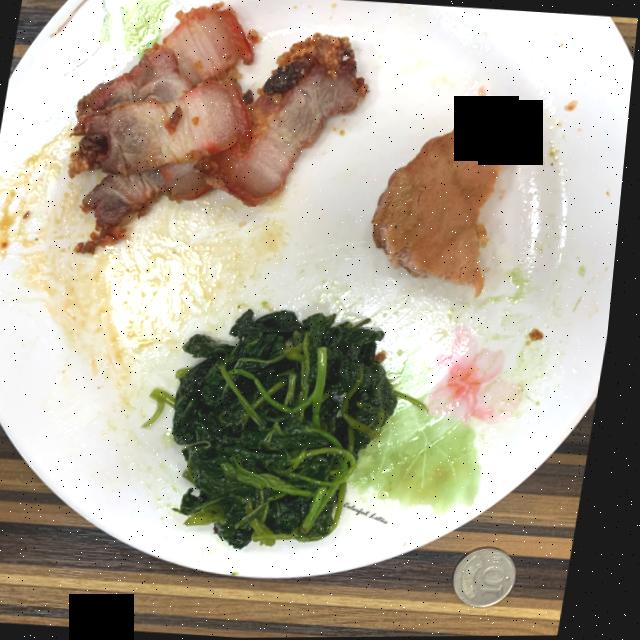Spam: (376, 121, 511, 296)
coin: (464, 548, 528, 607)
red grilled pork: (72, 3, 369, 252)
sweet potato leaves: (153, 309, 406, 548)
